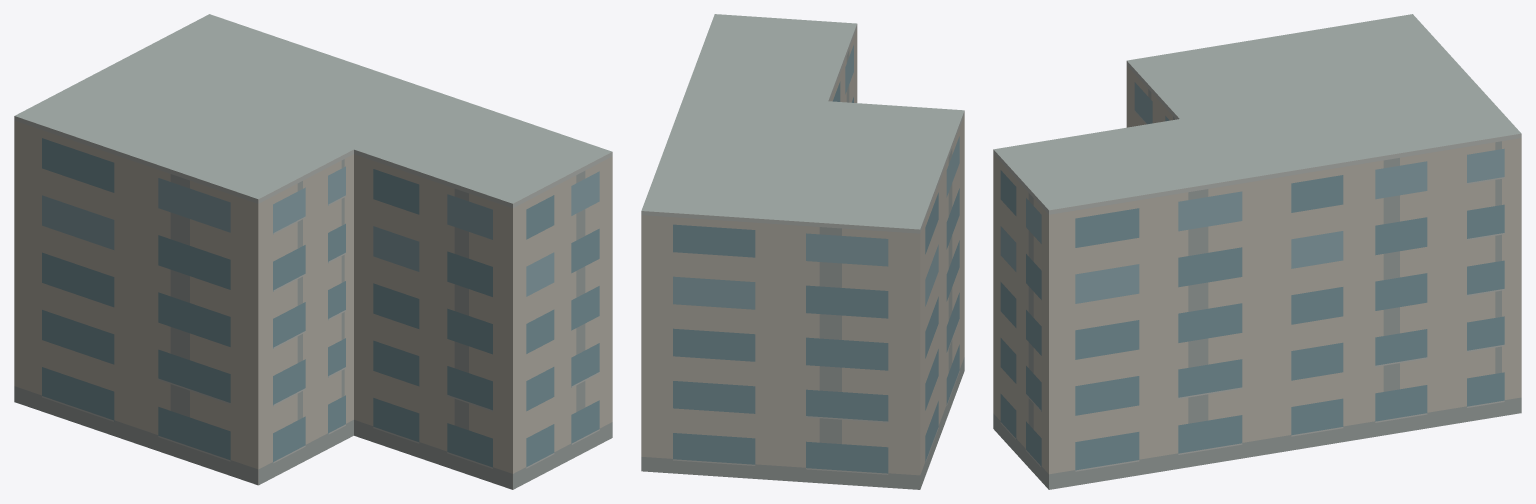
File: residential-8d188a15-0616-4aac-8de7-87d30ca90e23.glb
3 renders of one model, left to right at view 1: azimuth 30°, elevation 25°; view 2: azimuth 150°, elevation 25°; view 3: azimuth 270°, elevation 25°, orthographic. The views are drawn at different scales.
Parts seen in each view (by area): view 1: residential-8d188a15-0616-4aac-8de7-87d30ca90e23.tmp; view 2: residential-8d188a15-0616-4aac-8de7-87d30ca90e23.tmp; view 3: residential-8d188a15-0616-4aac-8de7-87d30ca90e23.tmp.
Part boxes in pixels (left/top/right/bottom): residential-8d188a15-0616-4aac-8de7-87d30ca90e23.tmp: left=14, top=14, right=612, bottom=489; residential-8d188a15-0616-4aac-8de7-87d30ca90e23.tmp: left=641, top=14, right=964, bottom=489; residential-8d188a15-0616-4aac-8de7-87d30ca90e23.tmp: left=993, top=14, right=1521, bottom=489.
Bounding box in the file's own units: 22.99 × 15.25 × 26.13.
